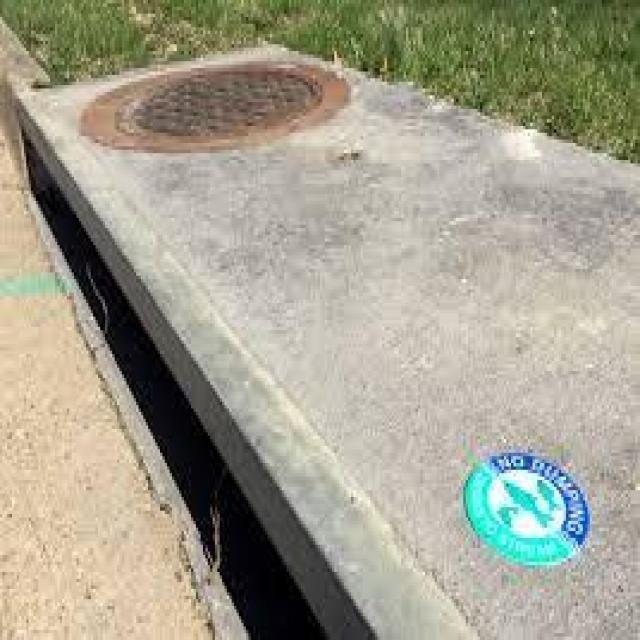curb: (1, 16, 475, 640)
